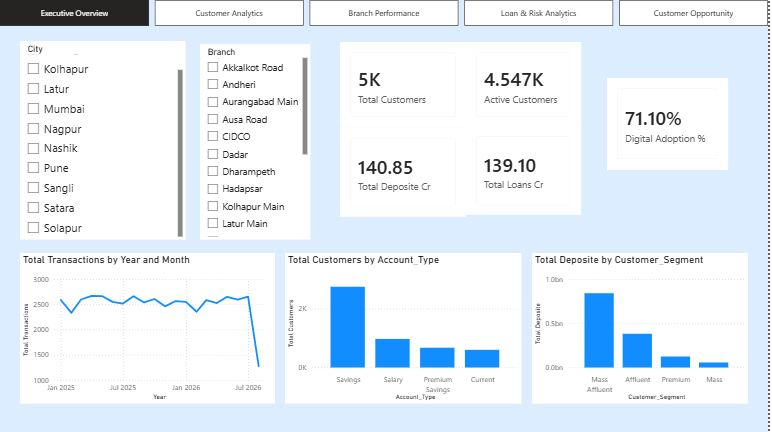

This screenshot's page, from the dashboard's own definition file:
{"tool":"powerbi","page":{"name":"Executive Overview","canvas":[1280,720],"ordinal":0},"visuals":[{"type":"clusteredColumnChart","fields":{"Category":["Customers.Account_Type"],"Y":["Customers.Total Customers"]},"box":[474.5,421.6,394.4,250.9],"z":0},{"type":"clusteredColumnChart","fields":{"Category":["Customers.Customer_Segment"],"Y":["Customers.Total Deposite"]},"box":[887.1,421.6,359.7,250.9],"z":1000},{"type":"cardVisual","fields":{"Data":["Customers.Total Customers"]},"box":[566.7,70,210.2,142.6],"z":2000},{"type":"cardVisual","fields":{"Data":["Customers.Digital Adoption %"]},"box":[1011.7,130,201.6,152.6],"z":3000},{"type":"lineChart","fields":{"Y":["Transactions.Total Transactions"],"Category":["Transactions.Transaction_Date.Variation.Date Hierarchy.Year","Transactions.Transaction_Date.Variation.Date Hierarchy.Month"]},"box":[33.2,421.6,424.8,250.6],"z":4000},{"type":"cardVisual","fields":{"Data":["Customers.Active Customers"]},"box":[776.7,70,191.9,142.1],"z":5000},{"type":"slicer","title":"City","fields":{"Values":["Customers.City"]},"box":[33.1,69.1,276.5,331.2],"z":6000},{"type":"slicer","fields":{"Values":["Customers.Branch"]},"box":[334,74,184.4,326.4],"z":7000},{"type":"cardVisual","fields":{"Data":["Customers.Total Deposite Cr"]},"box":[566.7,213.3,210.1,148.1],"z":8000},{"type":"cardVisual","fields":{"Data":["Customers.Total Loans Cr"]},"box":[776.7,210,191.9,148.1],"z":9000},{"type":"pageNavigator","box":[0,0,1280,43.3],"z":10000}]}

Visuals, with their boxes in screenshot pixels (x1, y1, x2, y2), scaled from the page's 1280x720 canvas onto the 772x432 screenshot:
clusteredColumnChart - Customers.Account_Type x Customers.Total Customers: detection(286, 253, 524, 404)
clusteredColumnChart - Customers.Customer_Segment x Customers.Total Deposite: detection(535, 253, 752, 404)
cardVisual - Customers.Total Customers: detection(342, 42, 469, 128)
cardVisual - Customers.Digital Adoption %: detection(610, 78, 732, 170)
lineChart - Transactions.Total Transactions x Transactions.Transaction_Date.Variation.Date Hierarchy.Year: detection(20, 253, 276, 403)
cardVisual - Customers.Active Customers: detection(468, 42, 584, 127)
"City" slicer: detection(20, 41, 187, 240)
slicer - Customers.Branch: detection(201, 44, 313, 240)
cardVisual - Customers.Total Deposite Cr: detection(342, 128, 469, 217)
cardVisual - Customers.Total Loans Cr: detection(468, 126, 584, 215)
pageNavigator: detection(0, 0, 771, 26)
